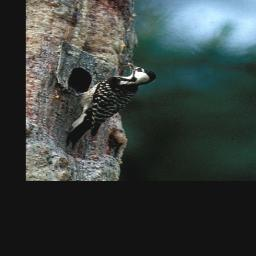Woodpecker: (66, 61, 158, 151)
